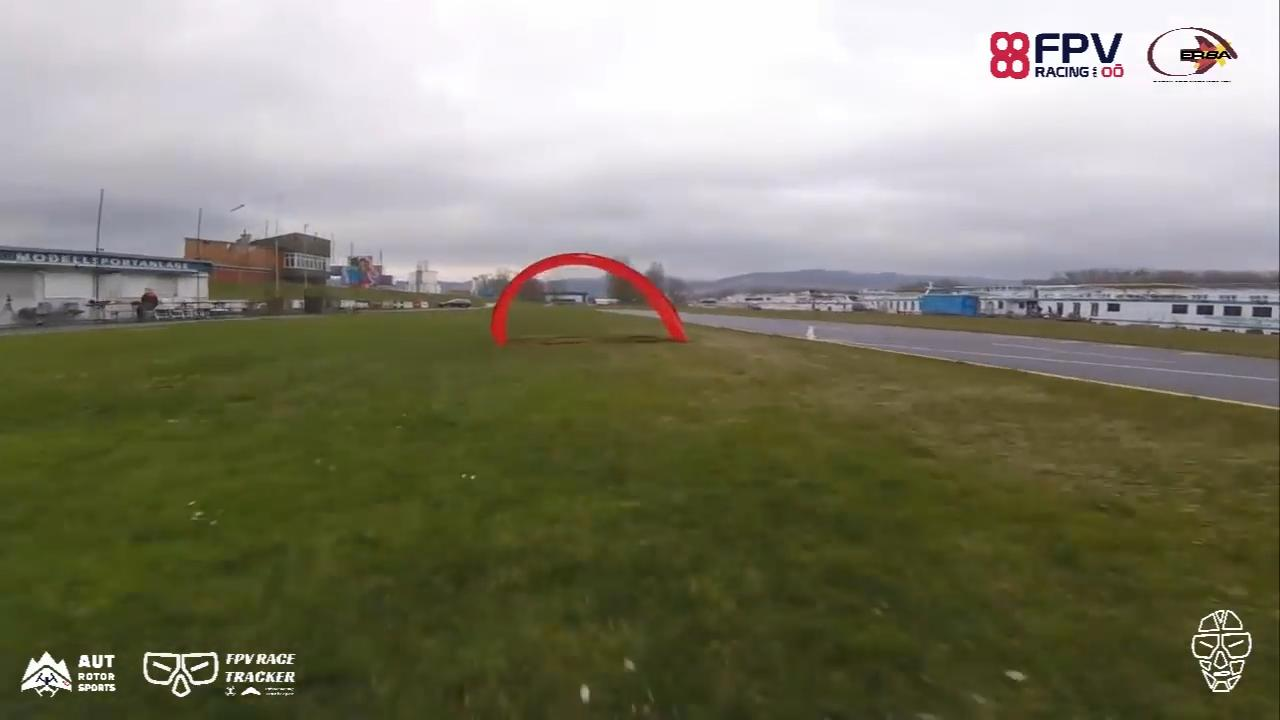gate: (484, 251, 689, 344)
